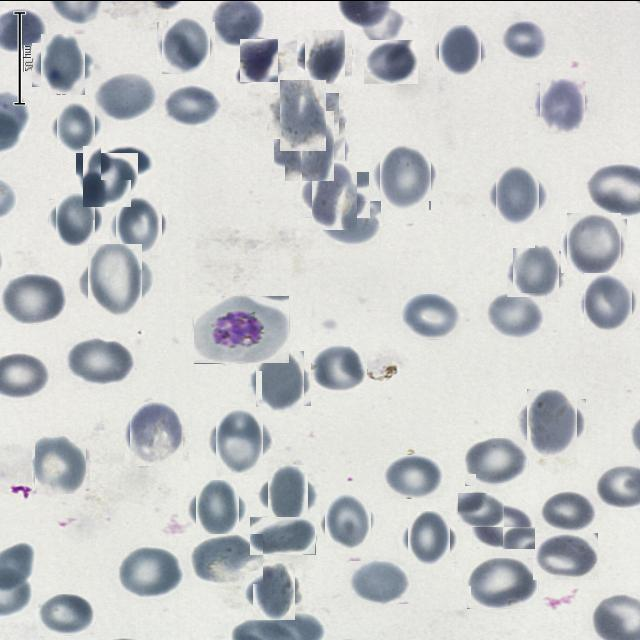red blood cell: (82, 248, 146, 310), (467, 557, 538, 608), (564, 215, 624, 275), (522, 392, 582, 452), (191, 533, 263, 583), (280, 116, 340, 176), (117, 545, 183, 597), (128, 403, 186, 462), (211, 411, 269, 469), (376, 147, 434, 205), (274, 86, 332, 144), (66, 336, 135, 384), (0, 273, 66, 323), (306, 165, 363, 222), (252, 353, 307, 409), (465, 437, 529, 485), (533, 532, 598, 579), (95, 72, 158, 120), (34, 436, 88, 492), (80, 148, 134, 204), (582, 274, 636, 328), (472, 504, 536, 549), (160, 18, 212, 72), (36, 38, 90, 90), (401, 293, 462, 339), (318, 200, 381, 244), (492, 168, 544, 220), (510, 247, 562, 299), (112, 199, 164, 251), (311, 344, 367, 392), (350, 560, 410, 604), (384, 454, 444, 498), (486, 292, 545, 336), (537, 80, 588, 130), (322, 496, 373, 546), (250, 516, 316, 554), (192, 482, 242, 532), (263, 469, 313, 519), (249, 566, 299, 616), (539, 489, 597, 532), (38, 593, 96, 635), (404, 514, 454, 562), (163, 84, 221, 125), (364, 39, 418, 83), (436, 26, 483, 74), (52, 194, 99, 242), (301, 32, 348, 80), (499, 20, 549, 62), (54, 104, 99, 148), (101, 145, 154, 179), (240, 38, 279, 82), (458, 492, 504, 526)
schizont: (194, 295, 290, 363)
